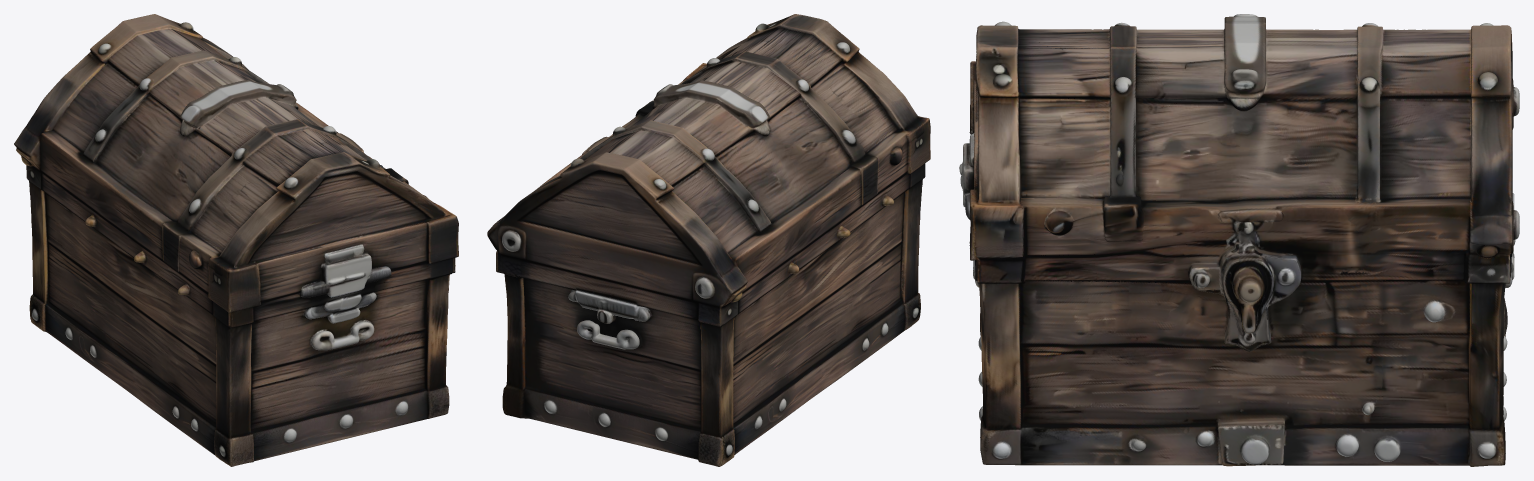
File: chest.glb
3 renders of one model, left to right at view 1: azimuth 30°, elevation 25°; view 2: azimuth 150°, elevation 25°; view 3: azimuth 270°, elevation 25°, orthographic. The views are drawn at different scales.
Visible parts, largest first — view 1: tripo_node_cc7adf71-d7d0-4a55-ae2b-84f6e462fc29; view 2: tripo_node_cc7adf71-d7d0-4a55-ae2b-84f6e462fc29; view 3: tripo_node_cc7adf71-d7d0-4a55-ae2b-84f6e462fc29.
Part boxes in pixels (x1,y1,x2,y2): tripo_node_cc7adf71-d7d0-4a55-ae2b-84f6e462fc29: (14,14,458,466); tripo_node_cc7adf71-d7d0-4a55-ae2b-84f6e462fc29: (487,14,930,466); tripo_node_cc7adf71-d7d0-4a55-ae2b-84f6e462fc29: (959,14,1519,466).
Size of the model in its own units: 0.7096 by 0.7201 by 1.
Materials: 1 (1 with a texture image).
